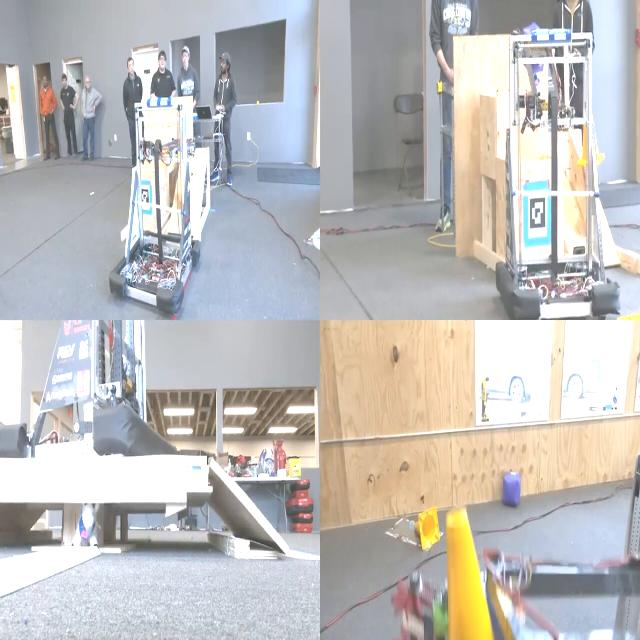frc_cone: (578, 96, 606, 176), (409, 494, 443, 558)
frc_cube: (498, 464, 525, 514)
